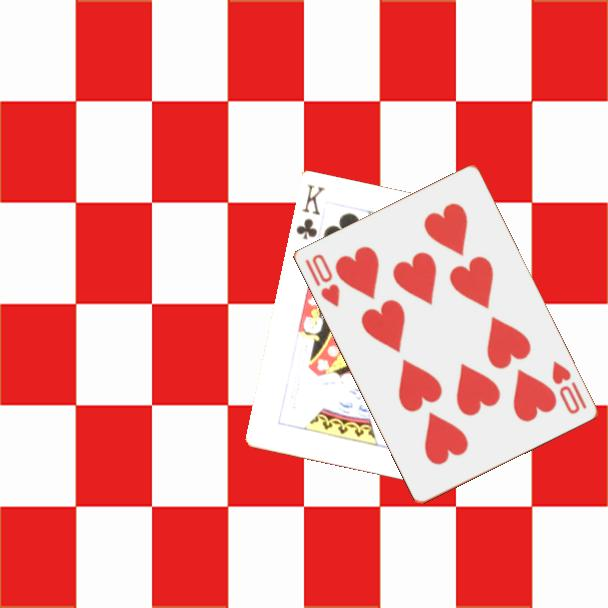c13: (293, 181, 328, 243)
h10: (549, 357, 590, 417), (302, 250, 343, 310)
